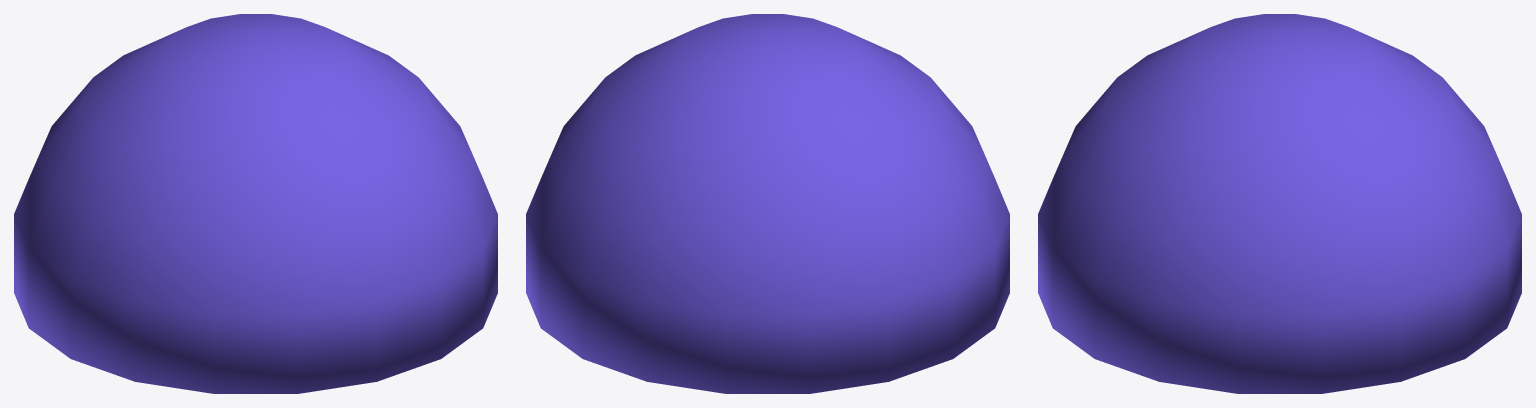
The model's file is GlassDome.FBX.
3 renders of one model, left to right at view 1: azimuth 30°, elevation 25°; view 2: azimuth 150°, elevation 25°; view 3: azimuth 270°, elevation 25°, orthographic.
Visible parts, largest first — view 1: GlassDome; view 2: GlassDome; view 3: GlassDome.
Boxes of the visible parts, box(x1,y1,x2,y2) form: GlassDome: box(14, 14, 497, 393); GlassDome: box(526, 14, 1009, 393); GlassDome: box(1038, 14, 1521, 393).
Size of the model in its own units: 94.58 by 56.18 by 96.04.
